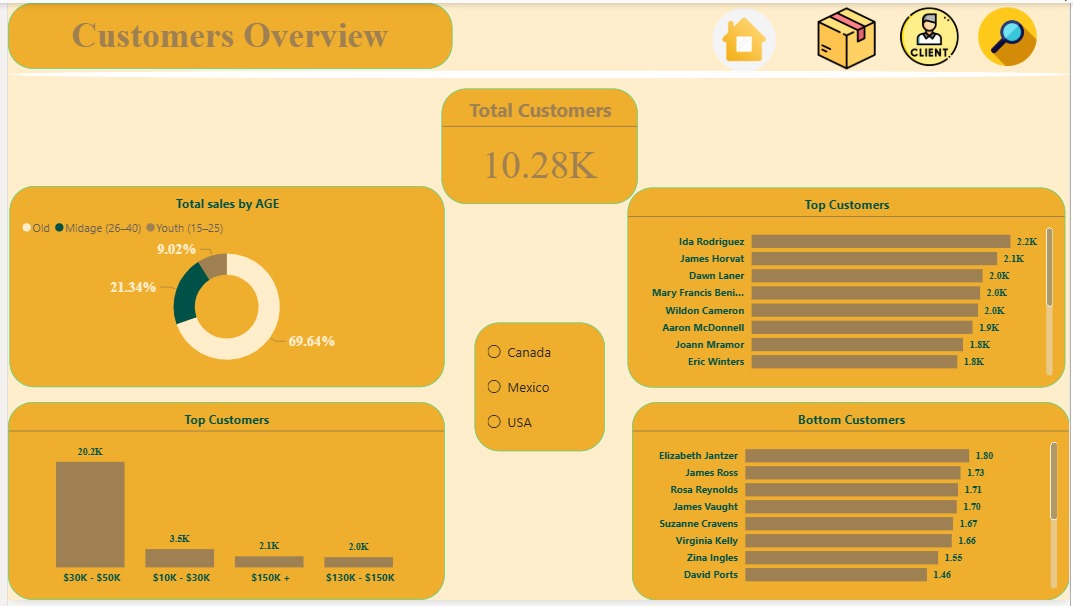

The dashboard page shown, as its layout file describes it:
{"tool":"powerbi","page":{"name":"Customers","canvas":[1280,720],"ordinal":4},"visuals":[{"type":"textbox","box":[0,0,536.3,79.3],"z":0},{"type":"card","title":"Total Customers","fields":{"Values":["Measure.Total_customer"]},"box":[522.7,103.1,237,139.3],"z":1000},{"type":"shape","box":[2.4,80.6,1278.4,9.5],"z":2000},{"type":"clusteredBarChart","title":"Top Customers","fields":{"Category":["Customers.customer_name"],"Y":["Measure.Total_sales_without_Returns"]},"box":[747.8,221.7,528.3,241.3],"z":3000},{"type":"donutChart","title":"Total sales by AGE","fields":{"Y":["Measure.Total_Sales"],"Category":["Customers.AGE.1"]},"box":[1.8,220.7,524.5,242.4],"z":4000},{"type":"image","box":[966,0,90.6,84.9],"z":5000},{"type":"image","box":[1056.6,0,109.4,81.1],"z":6000},{"type":"image","box":[835.8,0,103.8,88.7],"z":7000},{"type":"clusteredBarChart","title":"Bottom Customers","fields":{"Category":["Customers.customer_name"],"Y":["Measure.Total_sales_without_Returns"]},"box":[752.2,480.4,528.3,239.1],"z":8000},{"type":"clusteredColumnChart","title":"Top Customers","fields":{"Category":["Customers.yearly_income"],"Y":["Measure.Total_sales_without_Returns"]},"box":[0,481.1,526.4,238.8],"z":9000},{"type":"listSlicer","title":"Total Customers","fields":{"Values":["Customers.customer_country"]},"box":[562.5,385.3,157.4,155.6],"z":10000},{"type":"image","box":[1149.1,0,113.2,81.1],"z":11000}]}

Visuals, with their boxes in screenshot pixels (x1, y1, x2, y2), scaled from the page's 1280x720 canvas onto the 1073x606 screenshot:
textbox: l=0, t=0, r=450, b=67
"Total Customers" card: l=438, t=87, r=637, b=204
shape: l=2, t=68, r=1072, b=76
"Top Customers" clusteredBarChart: l=627, t=187, r=1070, b=390
"Total sales by AGE" donutChart: l=2, t=186, r=441, b=390
image: l=810, t=0, r=886, b=71
image: l=886, t=0, r=977, b=68
image: l=701, t=0, r=788, b=75
"Bottom Customers" clusteredBarChart: l=631, t=404, r=1072, b=605
"Top Customers" clusteredColumnChart: l=0, t=405, r=441, b=605
"Total Customers" listSlicer: l=472, t=324, r=603, b=455
image: l=963, t=0, r=1058, b=68
